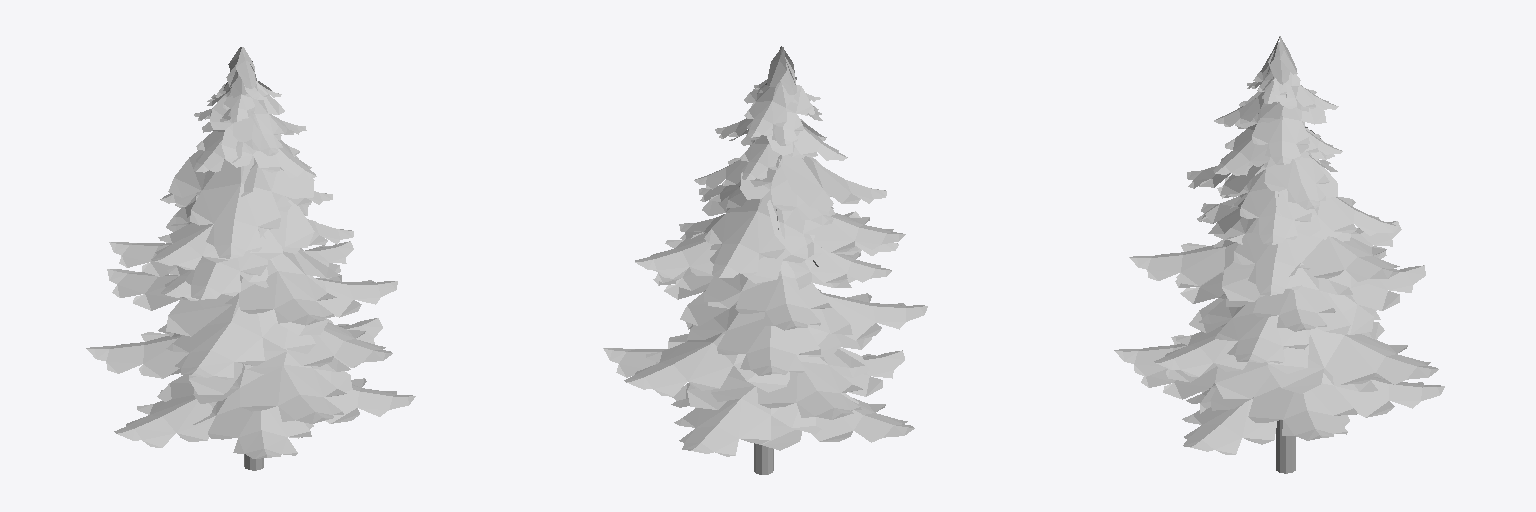
The model's file is tree.obj.
3 views of the same model, side by side, from view 1: azimuth 30°, elevation 25°; view 2: azimuth 150°, elevation 25°; view 3: azimuth 270°, elevation 25° (orthographic).
Visible parts, largest first — view 1: Leaves/001; view 2: Leaves/001, Trank.001; view 3: Leaves/001, Trank.001.
Part boxes in pixels (left/top/right/bottom): Leaves/001: left=86, top=47, right=415, bottom=458; Leaves/001: left=603, top=46, right=927, bottom=456; Trank.001: left=754, top=443, right=773, bottom=474; Leaves/001: left=1114, top=36, right=1444, bottom=454; Trank.001: left=1276, top=420, right=1295, bottom=473.
Size of the model in its own units: 2.17 by 3.08 by 2.17.